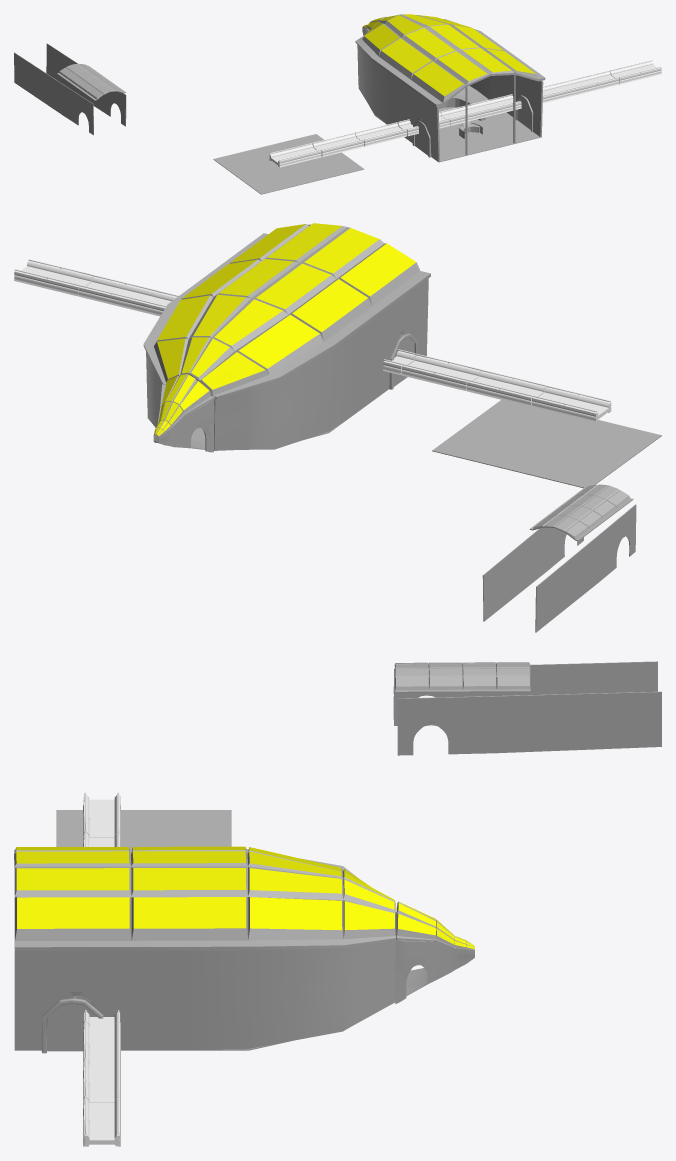
3 renders of one model, top to bottom at view 1: azimuth 30°, elevation 25°; view 2: azimuth 150°, elevation 25°; view 3: azimuth 270°, elevation 25°, orthographic. The views are drawn at different scales.
Parts seen in each view (by area): view 1: polySurface5, floor1, polySurface4, floor, roof1, pCube4, pCube3, pCube8, pCube2, pCube7, ConveyerBelt:pCube5, pCube6 (+5 smaller); view 2: polySurface5, floor1, polySurface4, pasted__polySurface5, roof1, pCube4, pCube3, pCube8, pCube2, pCube7; view 3: polySurface5, polySurface4, floor1, pasted__polySurface5, roof1, polySurface6, pCube8, pCube4, pCube7, pCube6, floor.
Part boxes in pixels (x1,y1,x2,y2): polySurface5: [355, 14, 545, 161]; floor1: [213, 134, 364, 194]; polySurface4: [14, 43, 126, 135]; floor: [369, 85, 541, 162]; roof1: [57, 63, 126, 100]; pCube4: [269, 143, 321, 167]; pCube3: [312, 132, 364, 156]; pCube8: [609, 60, 661, 84]; pCube2: [355, 122, 406, 146]; pCube7: [567, 70, 619, 94]; ConveyerBelt:pCube5: [440, 101, 492, 125]; pCube6: [542, 80, 576, 103]; polySurface5: [143, 223, 430, 450]; floor1: [432, 400, 661, 488]; polySurface4: [482, 504, 636, 632]; pasted__polySurface5: [153, 374, 214, 452]; roof1: [529, 484, 633, 541]; pCube4: [531, 385, 611, 422]; pCube3: [466, 369, 546, 406]; pCube8: [14, 259, 93, 296]; pCube2: [401, 353, 481, 390]; pCube7: [79, 275, 157, 312]; polySurface5: [14, 846, 395, 1049]; polySurface4: [393, 661, 661, 755]; floor1: [56, 810, 231, 849]; pasted__polySurface5: [395, 901, 474, 1004]; roof1: [394, 662, 530, 692]; polySurface6: [46, 1004, 96, 1051]; pCube8: [83, 1095, 120, 1146]; pCube4: [83, 792, 120, 842]; pCube7: [83, 1057, 120, 1107]; pCube6: [83, 1020, 120, 1070]; floor: [14, 968, 453, 1050].
Size of the model in its own units: 163 by 24.67 by 102.
